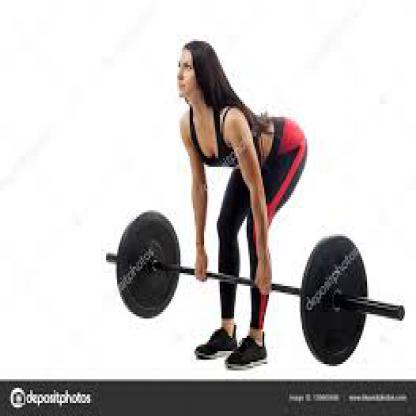Barbell: (299, 225, 372, 369)
